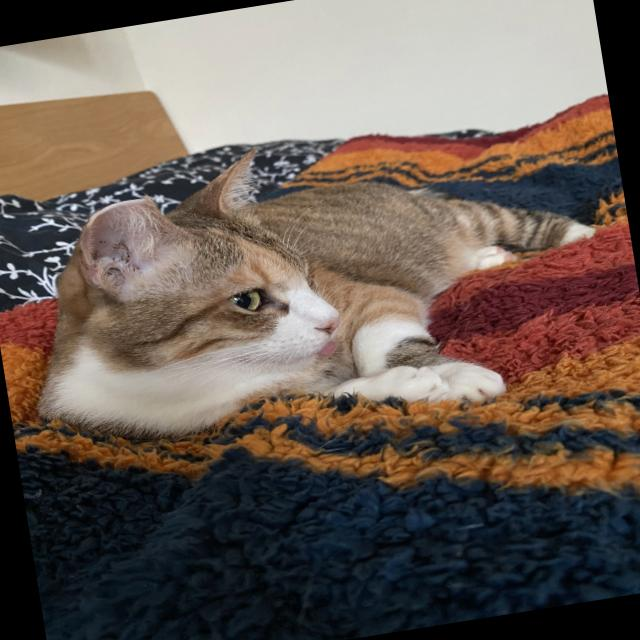cat2: (23, 108, 620, 470)
